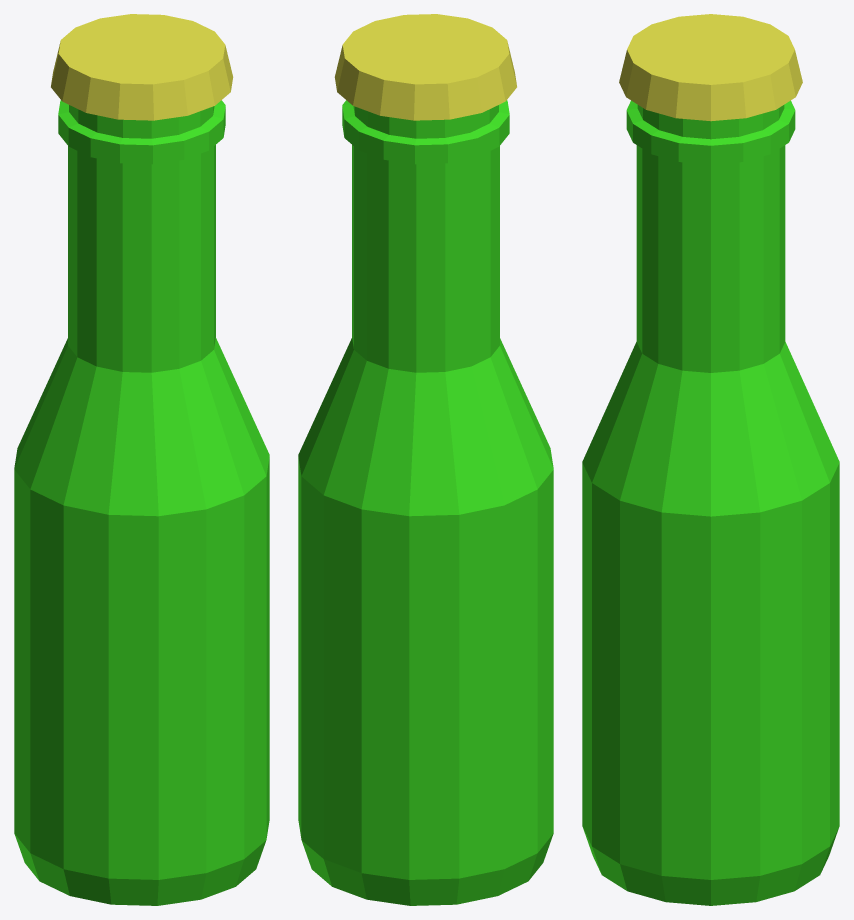
Rendered from Beer.glb.
3 views of the same model, side by side, from view 1: azimuth 30°, elevation 25°; view 2: azimuth 150°, elevation 25°; view 3: azimuth 270°, elevation 25° (orthographic).
Visible parts, largest first — view 1: Beer; view 2: Beer; view 3: Beer.
Boxes of the visible parts, bbox=[...] form: Beer: bbox=[14, 14, 269, 905]; Beer: bbox=[298, 14, 553, 905]; Beer: bbox=[582, 14, 839, 905].
Bounding box in the file's own units: 2 × 6.91 × 2.
